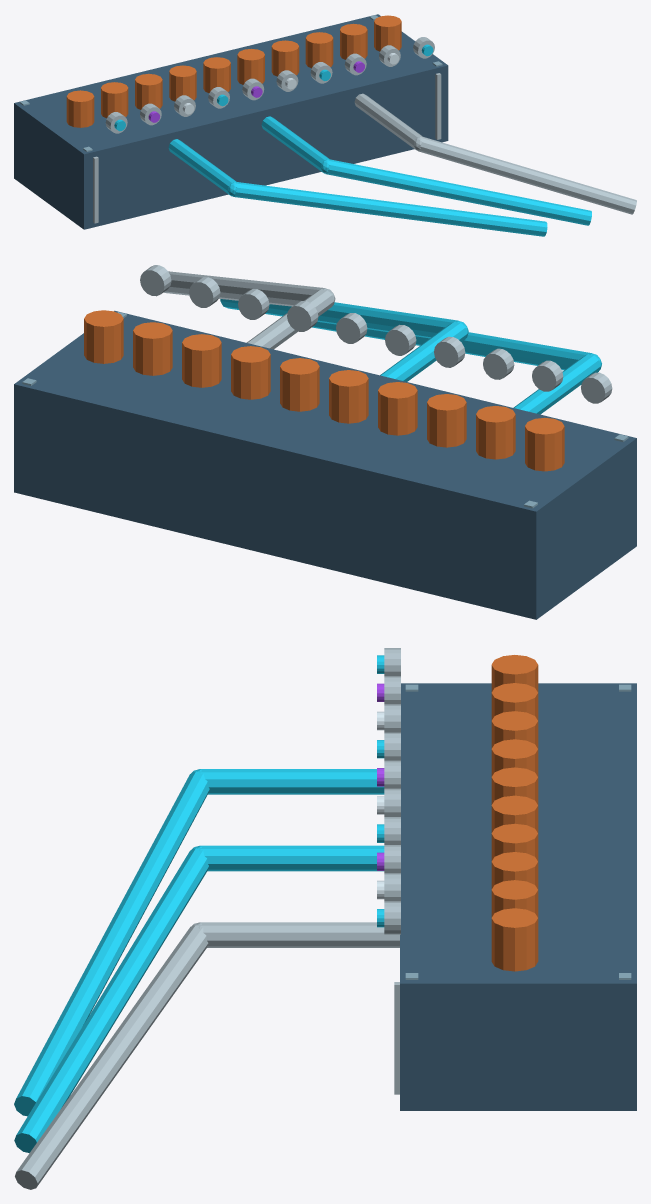
Rendered from 22_L72_SequentialGasDistributionManifold.fbx.
3 renders of one model, top to bottom at view 1: azimuth 30°, elevation 25°; view 2: azimuth 150°, elevation 25°; view 3: azimuth 270°, elevation 25°, orthographic. The views are drawn at different scales.
Parts seen in each view (by area): view 1: SequentialGasDistributionManifold; view 2: SequentialGasDistributionManifold; view 3: SequentialGasDistributionManifold.
Part boxes in pixels (x1=…): SequentialGasDistributionManifold: x1=14, y1=14, x2=636, y2=236; SequentialGasDistributionManifold: x1=14, y1=265, x2=636, y2=619; SequentialGasDistributionManifold: x1=14, y1=648, x2=636, y2=1189.
Size of the model in its own units: 234 by 60.78 by 168.
